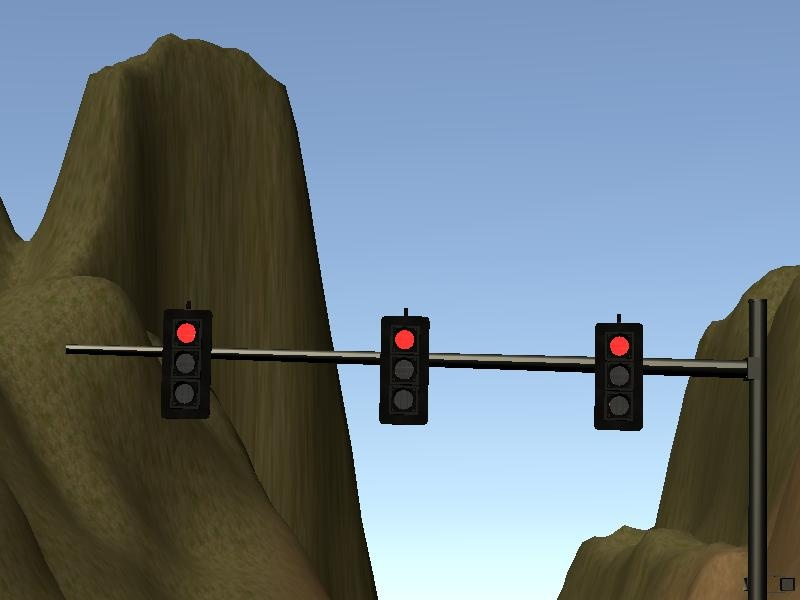red: (587, 311, 649, 436), (375, 305, 434, 432), (157, 300, 216, 424)
